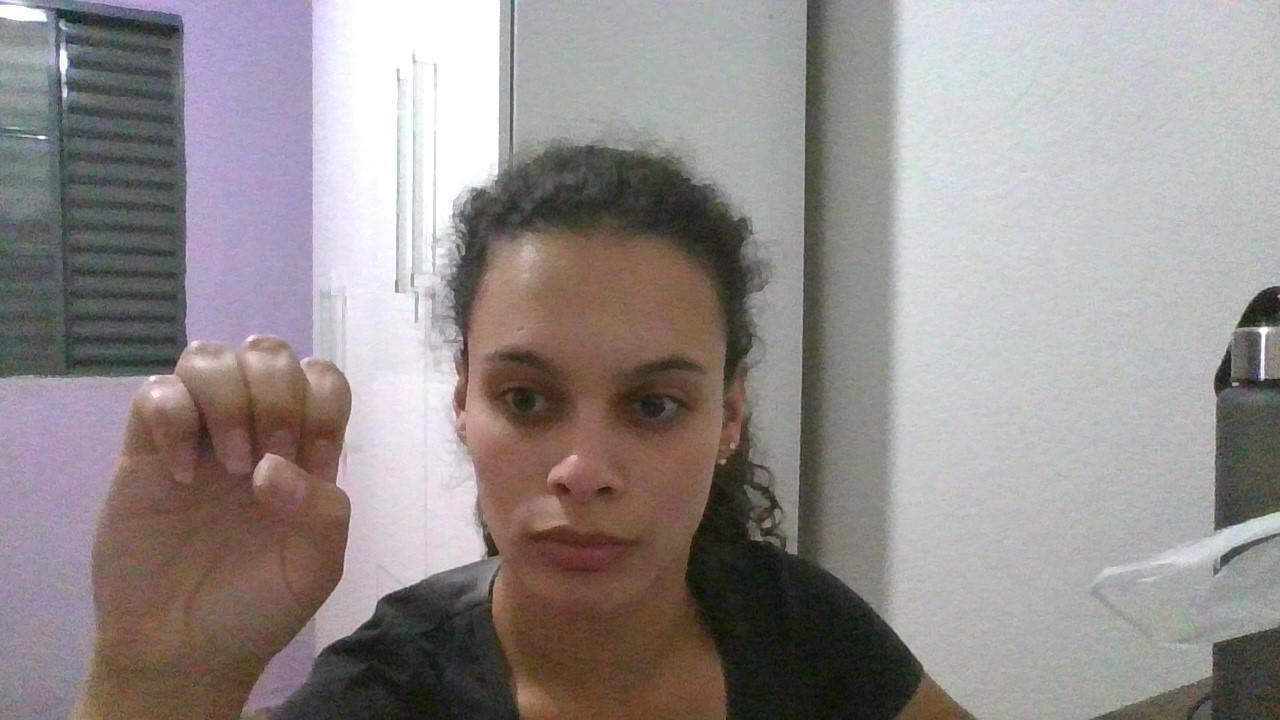E: (86, 320, 366, 662)
